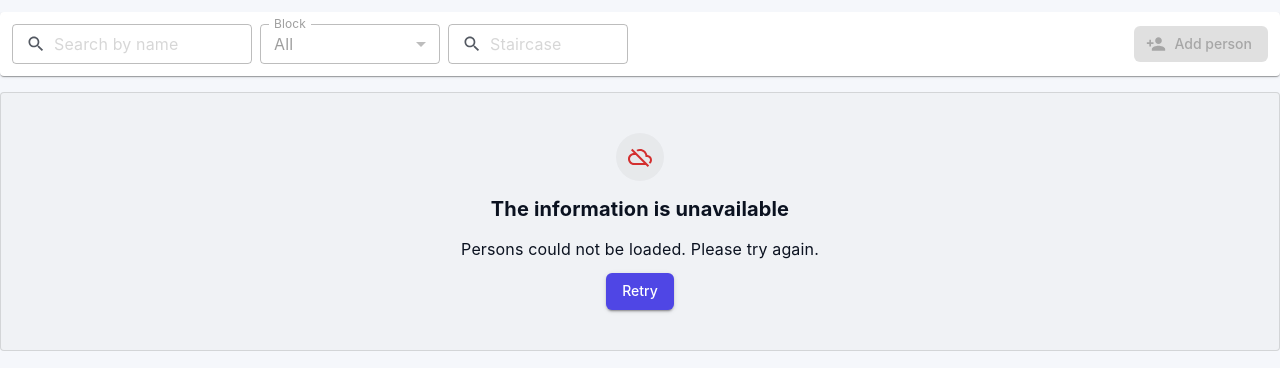
Test case: Persons and external censor appointments › shows a request failure with retry instead of an empty persons list
This screenshot has width=1280, height=368.
Click the button "Retry": (640, 291) x1=606 y1=273 x2=674 y2=310
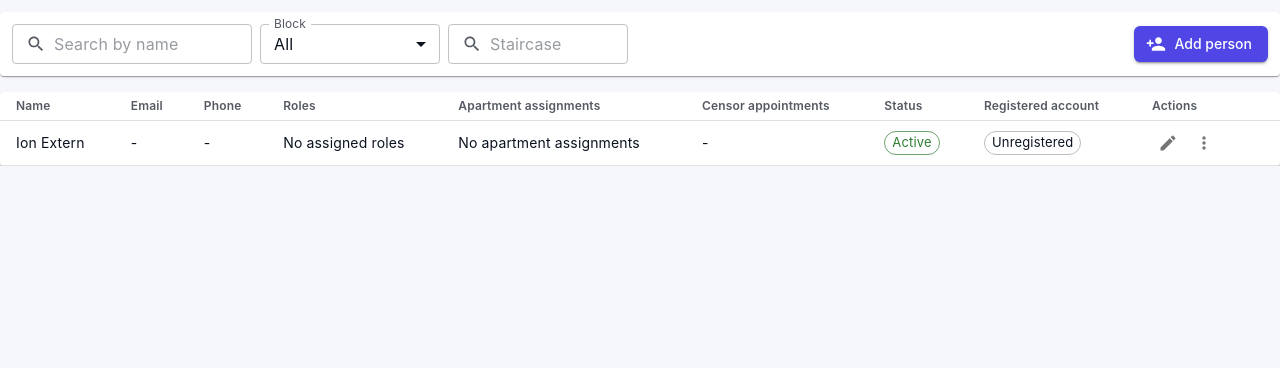
Expected: the text "Ion Extern" is shown, x1=0 y1=121 x2=115 y2=166
Expected: the message is gone
